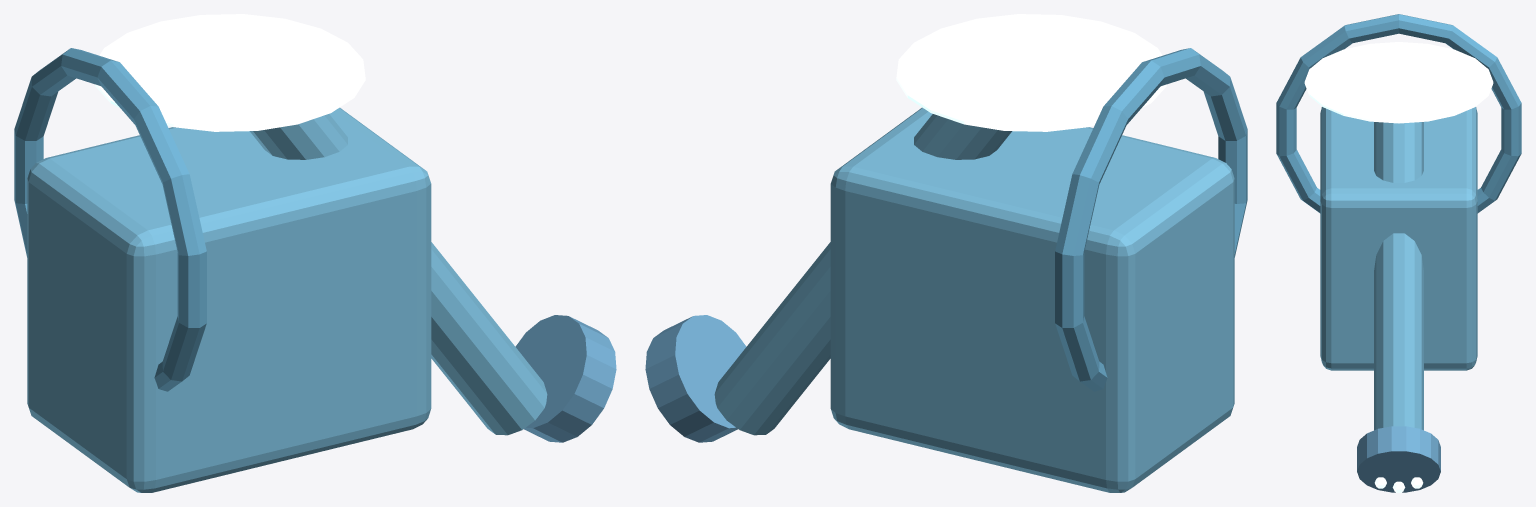
File: watering_can.fbx
3 renders of one model, left to right at view 1: azimuth 30°, elevation 25°; view 2: azimuth 150°, elevation 25°; view 3: azimuth 270°, elevation 25°, orthographic. The views are drawn at different scales.
Parts seen in each view (by area): view 1: WC_Body, WC_WaterLine, WC_Handle, WC_Spout, WC_Rose; view 2: WC_Body, WC_WaterLine, WC_Handle, WC_Spout, WC_Rose; view 3: WC_Body, WC_Spout, WC_WaterLine, WC_Handle, WC_Rose.
Boxes of the visible parts, <box> form: WC_Body: <box>27,107,431,492</box>; WC_WaterLine: <box>95,14,365,131</box>; WC_Handle: <box>14,48,206,391</box>; WC_Spout: <box>250,114,547,435</box>; WC_Rose: <box>515,315,616,442</box>; WC_Body: <box>830,107,1234,492</box>; WC_WaterLine: <box>896,14,1166,131</box>; WC_Handle: <box>1055,48,1247,391</box>; WC_Spout: <box>714,114,1011,435</box>; WC_Rose: <box>645,315,746,442</box>; WC_Body: <box>1320,107,1477,370</box>; WC_Spout: <box>1374,122,1423,430</box>; WC_WaterLine: <box>1304,42,1493,123</box>; WC_Handle: <box>1276,14,1521,213</box>; WC_Rose: <box>1357,426,1440,492</box>.
Bounding box in the file's own units: 0.7977 × 0.7003 × 0.468.
